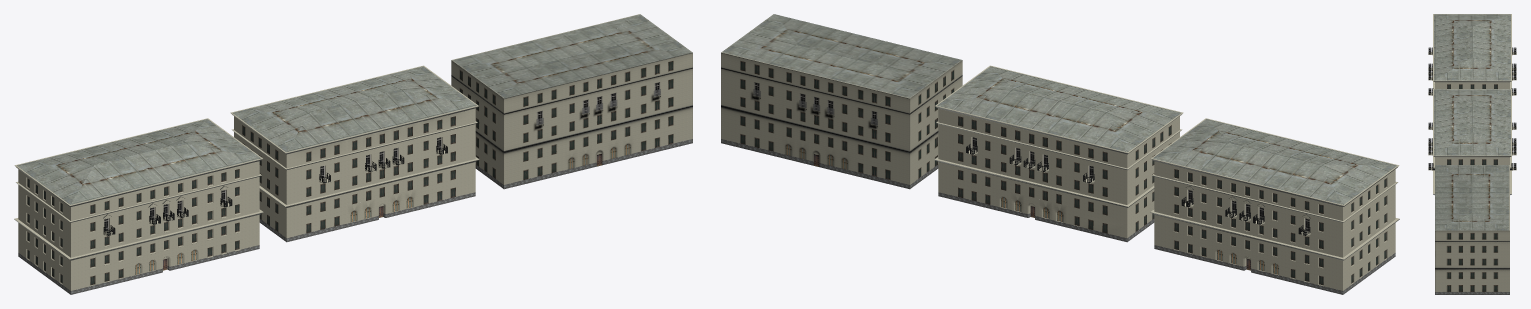
Rendered from 1212 blender export.fbx.
The picture shows the model from 3 angles, left to right: view 1: azimuth 30°, elevation 25°; view 2: azimuth 150°, elevation 25°; view 3: azimuth 270°, elevation 25°; orthographic projection. The views are drawn at different scales.
Visible parts, largest first — view 1: Object012, Object013, Box001; view 2: Object012, Object013, Box001; view 3: Box001, Object013, Object012.
Boxes of the visible parts, <box> form: Object012: <box>14,118,263,294</box>; Object013: <box>230,65,479,242</box>; Box001: <box>451,14,692,189</box>; Object012: <box>1150,118,1399,294</box>; Object013: <box>934,65,1183,242</box>; Box001: <box>721,14,962,189</box>; Box001: <box>1435,165,1509,294</box>; Object013: <box>1428,89,1516,194</box>; Object012: <box>1428,14,1516,95</box>.
Bounding box in the file's own units: 436 × 66.03 × 74.99.
Materials: 18 (18 with a texture image).
